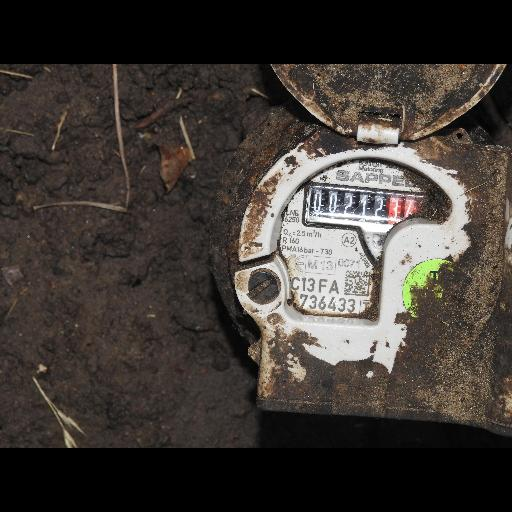0: (326, 190, 342, 219), (311, 188, 326, 217)
1: (357, 192, 372, 222)
2: (341, 191, 357, 222), (371, 194, 387, 225)
3: (388, 196, 403, 226)
4: (405, 197, 416, 220)
border_water_meter_number: (306, 185, 424, 231)
